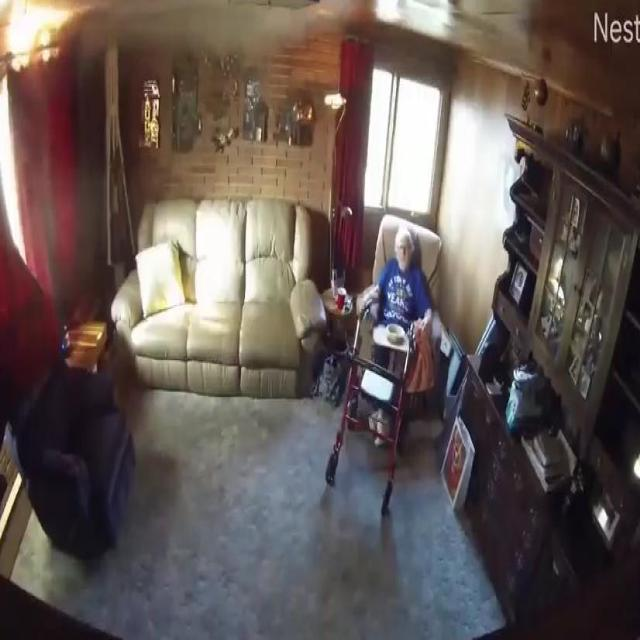fire: (82, 0, 343, 59)
smoke: (9, 0, 74, 72)
